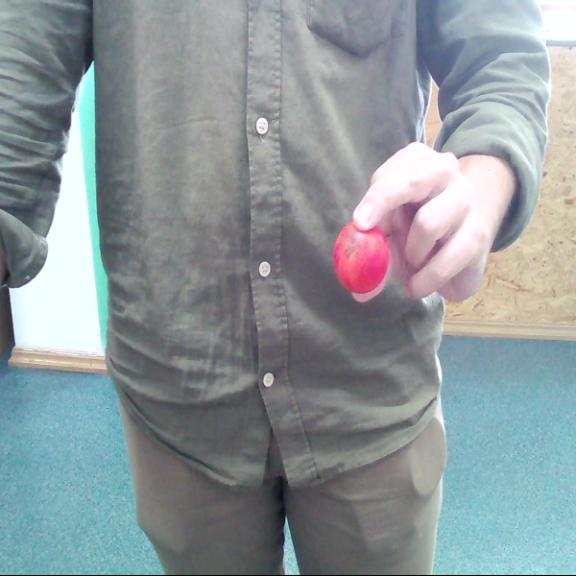ball: (332, 219, 391, 293)
